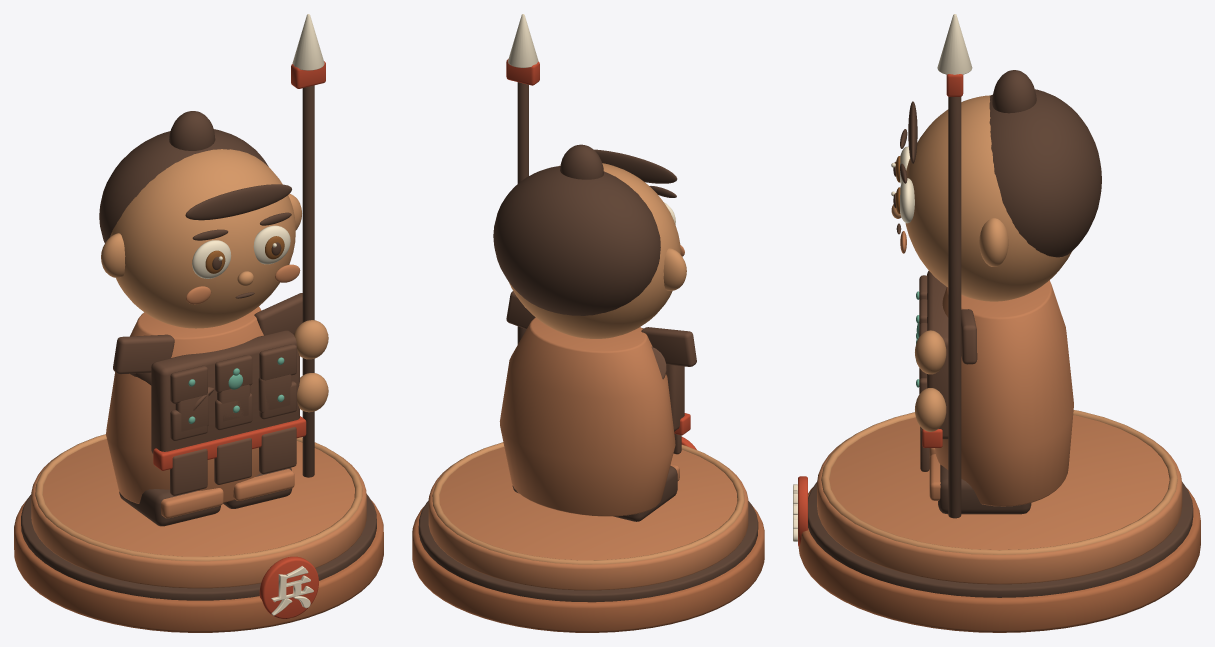
Rendered from red-soldier-terracotta-cartoon-v1.glb.
The picture shows the model from 3 angles, left to right: view 1: azimuth 30°, elevation 25°; view 2: azimuth 150°, elevation 25°; view 3: azimuth 270°, elevation 25°; orthographic projection. The views are drawn at different scales.
Visible parts, largest first — view 1: Red Soldier Qin Terracotta Cartoon V1 - Joined Mesh; view 2: Red Soldier Qin Terracotta Cartoon V1 - Joined Mesh; view 3: Red Soldier Qin Terracotta Cartoon V1 - Joined Mesh.
Boxes of the visible parts, left/top/right/bottom form: Red Soldier Qin Terracotta Cartoon V1 - Joined Mesh: left=14, top=14, right=383, bottom=632; Red Soldier Qin Terracotta Cartoon V1 - Joined Mesh: left=412, top=14, right=764, bottom=632; Red Soldier Qin Terracotta Cartoon V1 - Joined Mesh: left=793, top=14, right=1200, bottom=632.
Bounding box in the file's own units: 2.16 × 3.45 × 2.19.
